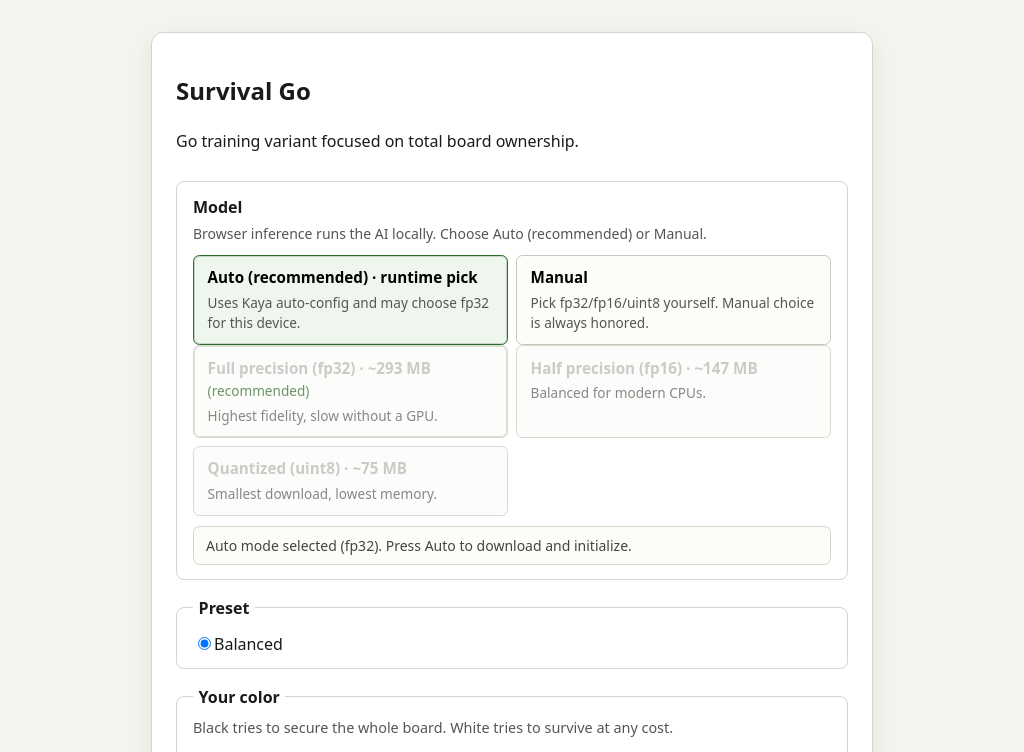
Test case: App › disables Start game until the user picks and loads a model
The width and height of the screenshot is (1024, 752).
Expected: the radio button labelled "Balanced" is shown, [198,637,211,650]
Click the button "Manual".
click(674, 300)  # box [516,255,831,345]
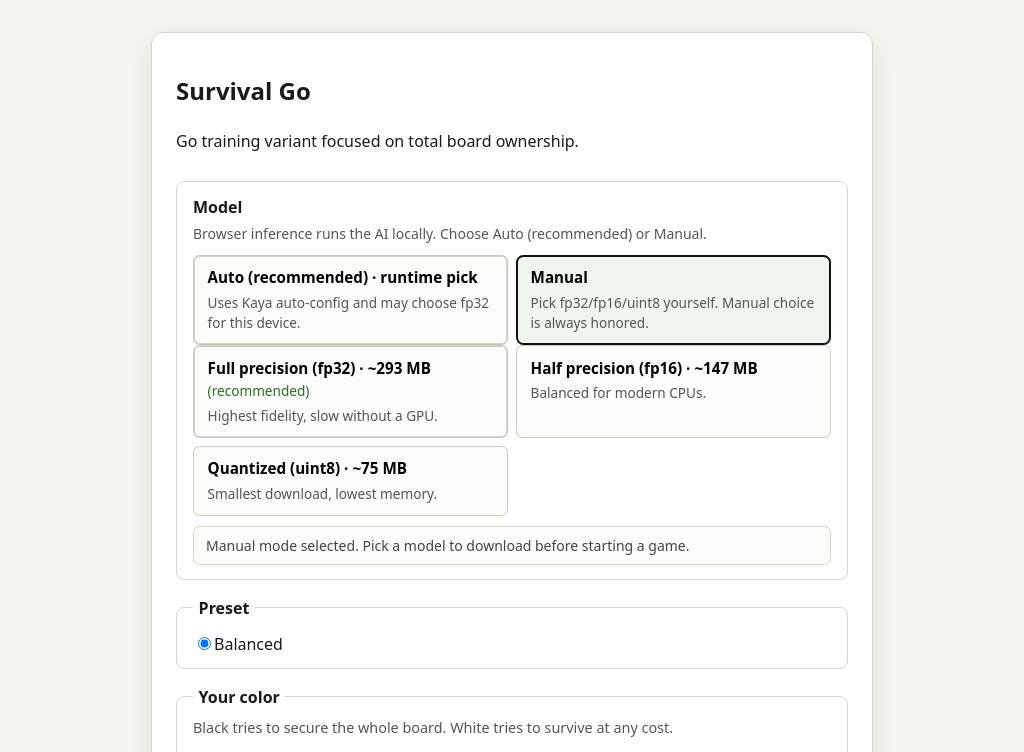
Click the button "Half precision (fp16) · ~147 MB Balanced for modern CPUs.".
click(674, 392)  # box [516,345,831,438]
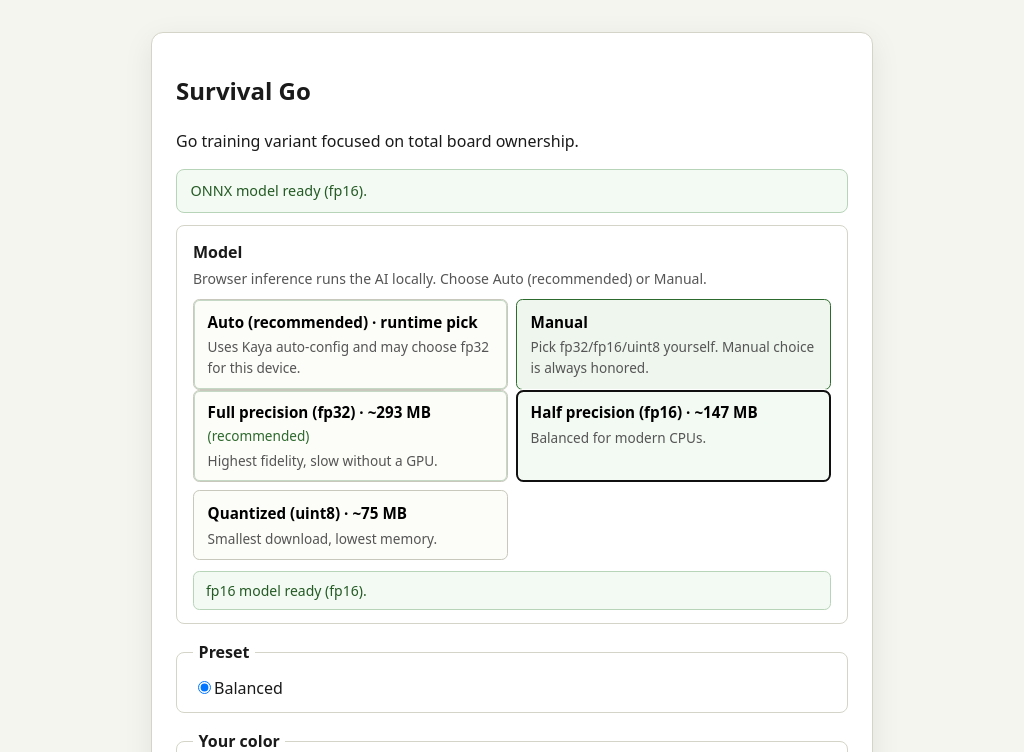
Result: the element named "model picker" shows "fp16 model ready" at [206,581,367,600]
